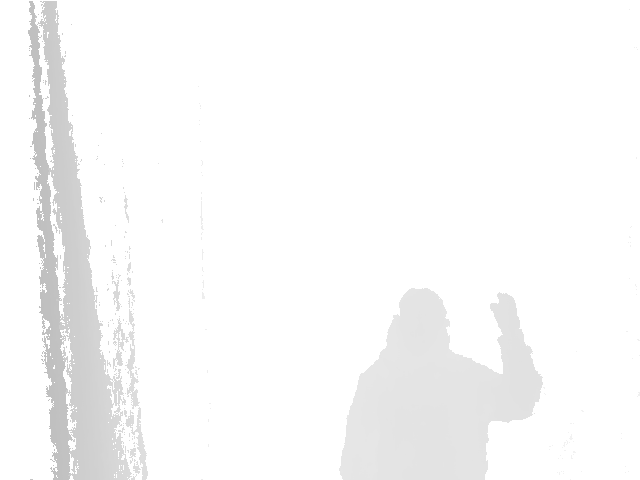head: (386, 286, 452, 368)
person: (336, 284, 546, 480)
